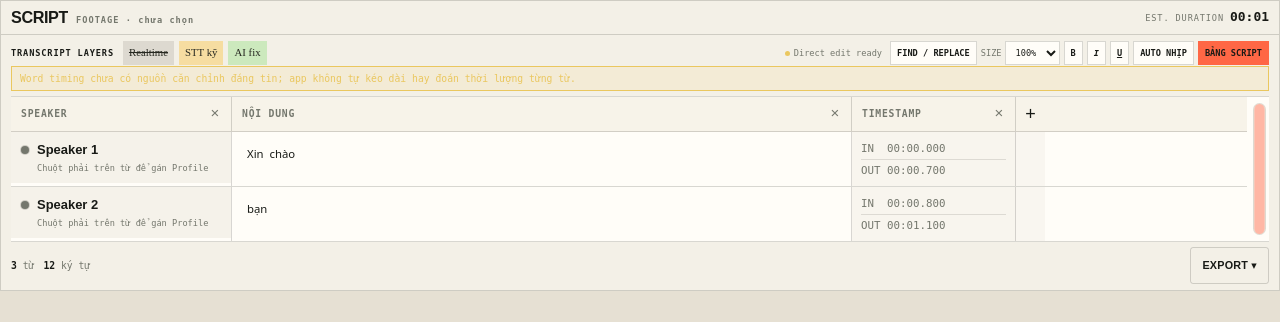
Test: ScriptEditor › switches from the table to compact speaker blocks and keeps Text Edit available
Click the button "BẢNG SCRIPT". click: (1233,53)
box: [1198,41,1269,65]
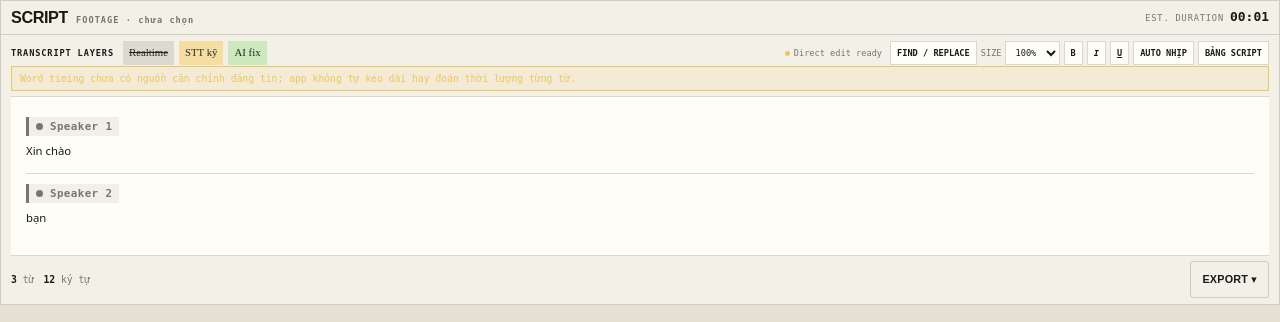
Expected: the text "Speaker 1" is shown, [50,119,112,134]
Expected: the element named "Transcript theo người nói" is shown
Double-click the element named "Transcript theo người nói" at (640,176), box [11,96,1269,256]
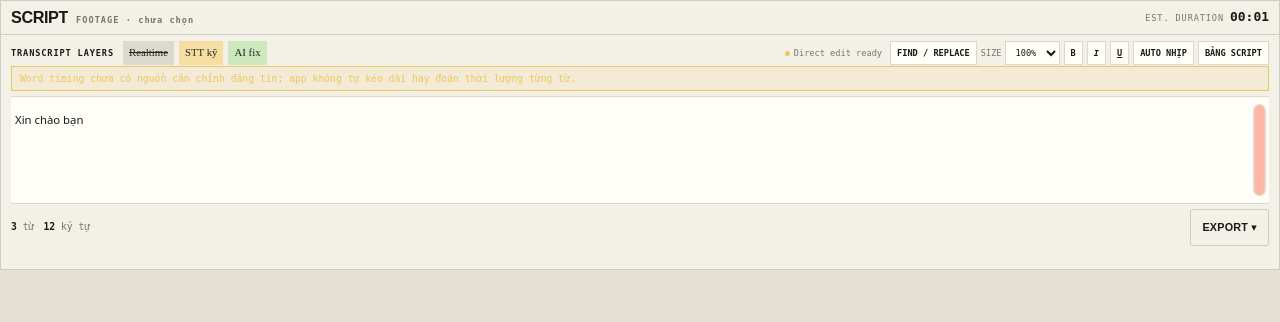
Expected: the text box named "Script transcript" is shown, [11,97,1269,203]
